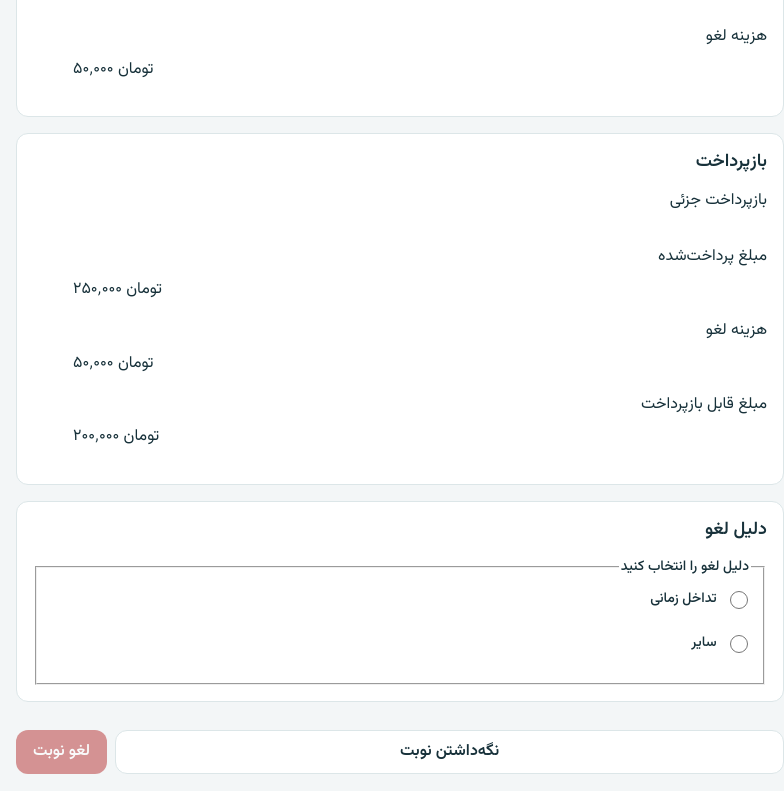
Scenario: AppointmentCancellationScreen › treats already cancelled as terminal without retrying mutation
The width and height of the screenshot is (784, 791).
(page scrolled)
expect the heading "دلیل لغو" is shown: met, box [705,516,767,544]
Click the radio button labelled "تداخل زمانی": (739, 600) [730,591,748,609]
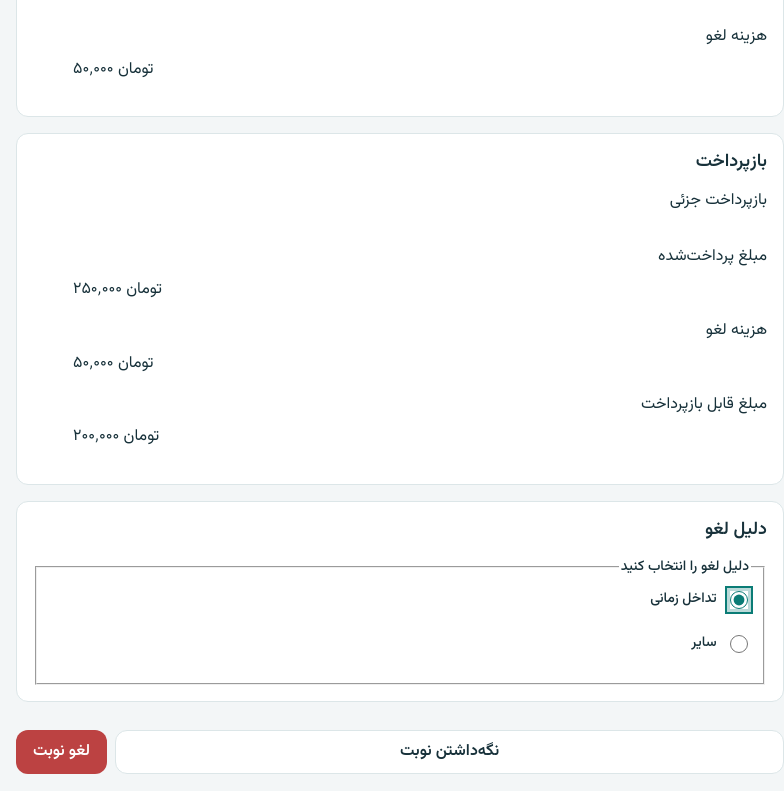
Click the button "لغو نوبت": (62, 752) [16,730,107,774]
(page scrolled)
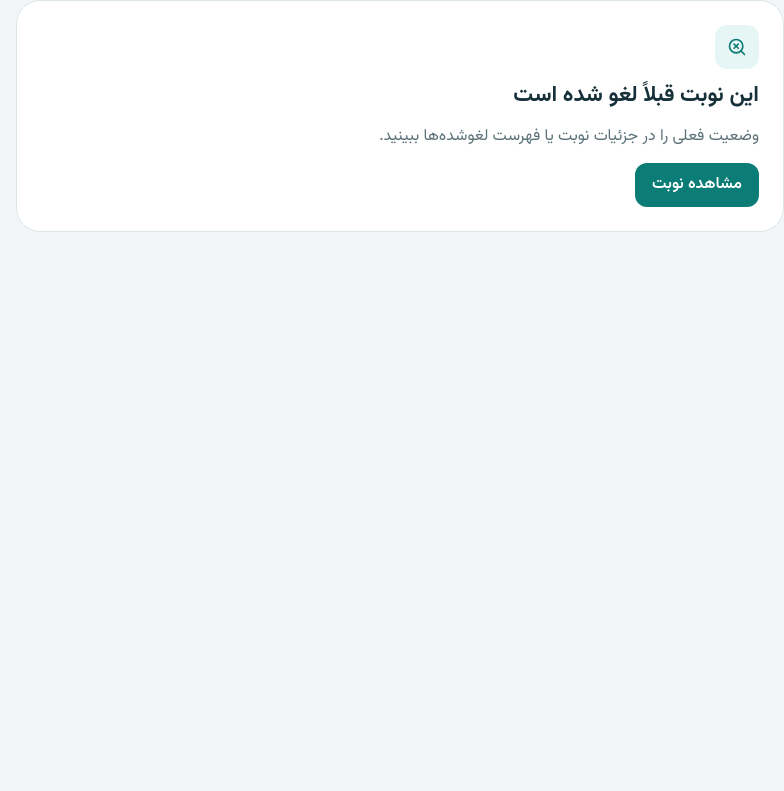
expect the heading "این نوبت قبلاً لغو شده است" is shown: met, box [513,81,759,111]
